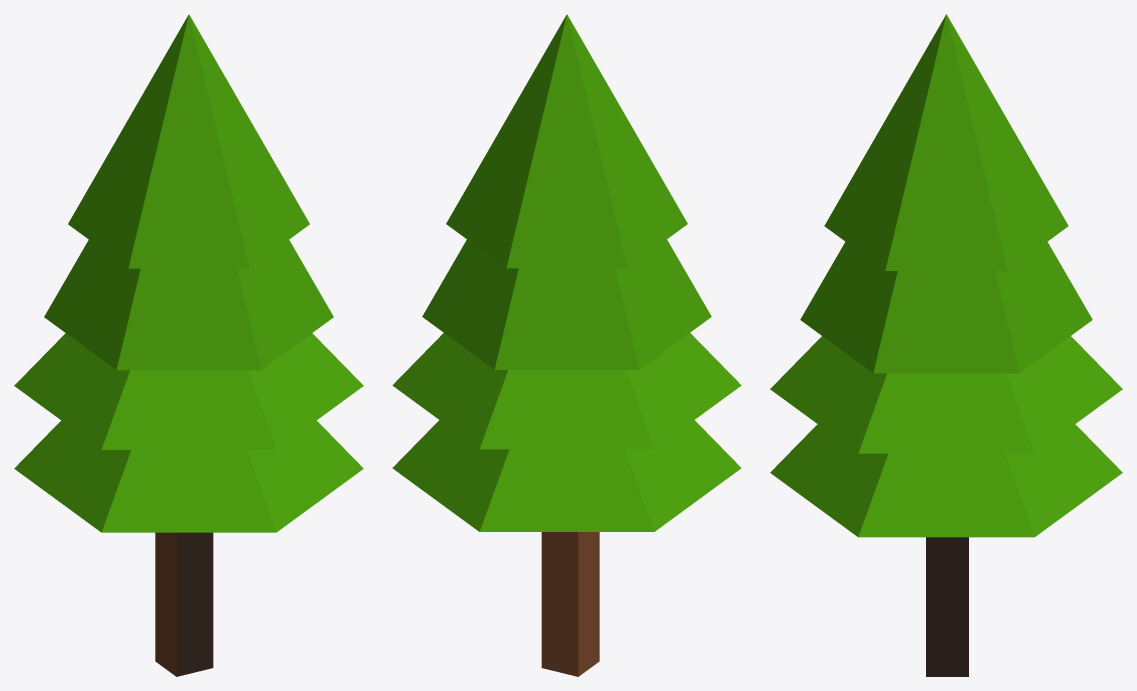
Rendered from tree.obj.
3 views of the same model, side by side, from view 1: azimuth 30°, elevation 25°; view 2: azimuth 150°, elevation 25°; view 3: azimuth 270°, elevation 25° (orthographic).
Parts seen in each view (by area): view 1: Cone.003_Cone, Cone.002_Cone, Cone.001_Cone, Cone, Cube; view 2: Cone.003_Cone, Cone.002_Cone, Cone.001_Cone, Cone, Cube; view 3: Cone.003_Cone, Cone.002_Cone, Cone.001_Cone, Cone, Cube.
Boxes of the visible parts, x1,y1,x2,y2 form: Cone.003_Cone: (68,14,309,268); Cone.002_Cone: (44,240,333,370); Cone.001_Cone: (14,333,363,449); Cone: (14,420,363,532); Cube: (155,532,213,676); Cone.003_Cone: (446,14,687,268); Cone.002_Cone: (422,239,711,369); Cone.001_Cone: (392,333,741,449); Cone: (392,420,741,531); Cube: (541,532,599,676); Cone.003_Cone: (824,14,1068,270); Cone.002_Cone: (800,242,1092,373); Cone.001_Cone: (770,336,1122,453); Cone: (770,424,1122,537); Cube: (926,537,968,676).
Bounding box in the file's own units: 1.43 × 3.39 × 1.65.
